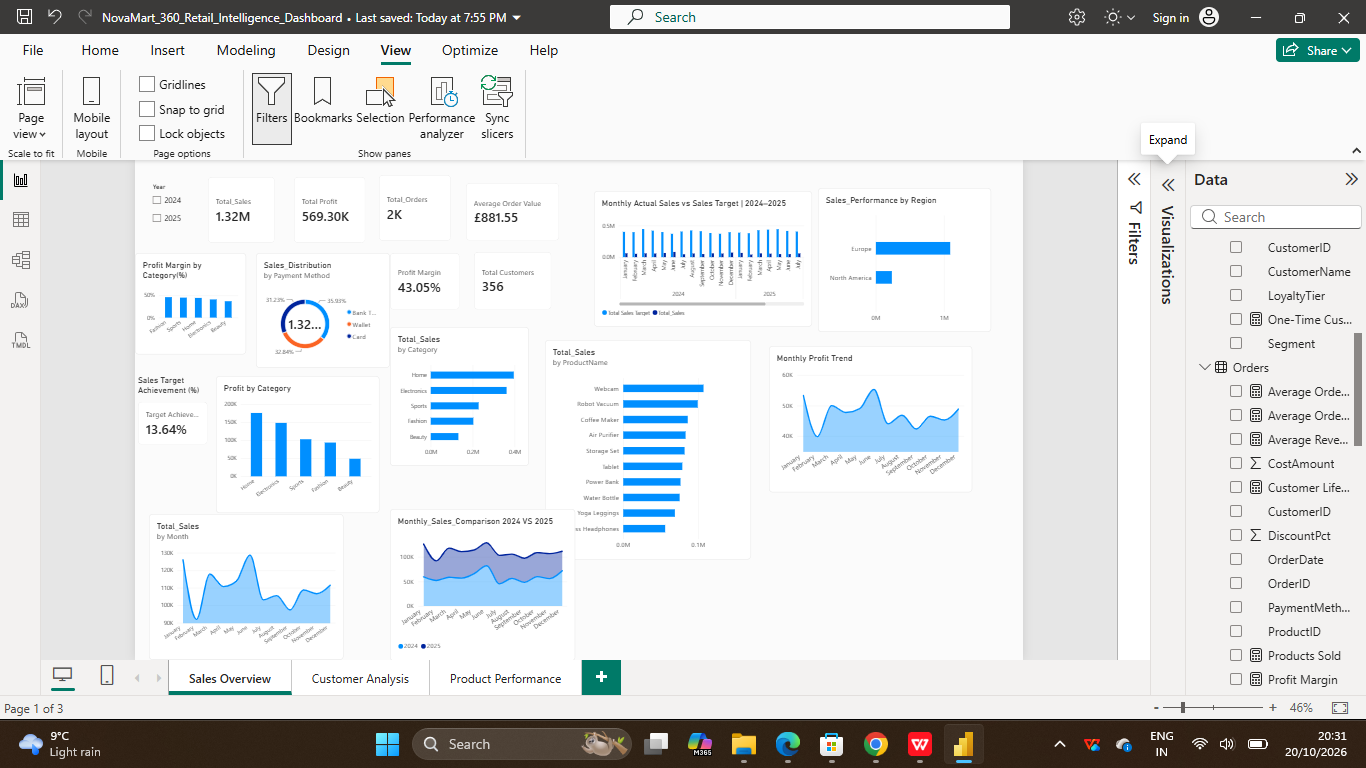

Layout of this report page (visuals, bound fields, positions):
{"tool":"powerbi","page":{"name":"Sales Overview","canvas":[1920,1080],"ordinal":0},"visuals":[{"type":"cardVisual","fields":{"Data":["Orders.Total_Sales"]},"box":[157.1,37.1,144.3,142.9],"z":0},{"type":"cardVisual","fields":{"Data":["Orders.Total_Orders"]},"box":[527.1,31.4,155.7,142.9],"z":1000},{"type":"cardVisual","fields":{"Data":["Orders.Total Profit"]},"box":[344.3,37.1,154.3,142.9],"z":2000},{"type":"cardVisual","fields":{"Data":["Orders.Profit Margin"]},"box":[550,200,150,122.9],"z":3000},{"type":"cardVisual","fields":{"Data":["Orders.Average Order Value"]},"box":[714.3,50,201.4,124.3],"z":4000},{"type":"cardVisual","fields":{"Data":["Orders.Total Customers"]},"box":[731.4,198.6,167.7,124.6],"z":5000},{"type":"clusteredBarChart","fields":{"Category":["Products.Category"],"Y":["Orders.Total_Sales"]},"box":[550,360,300,300],"z":6000},{"type":"clusteredBarChart","fields":{"Category":["Products.ProductName"],"Y":["Orders.Total_Sales"]},"box":[885.7,388.6,445,473.8],"z":7000},{"type":"areaChart","fields":{"Category":["Calendar.Date.Variation.Date Hierarchy.Month"],"Y":["Orders.Total_Sales"]},"box":[30,764.3,420,315],"z":8000},{"type":"stackedAreaChart","title":"Monthly_Sales_Comparison 2024 VS 2025","fields":{"Category":["Calendar.Date.Variation.Date Hierarchy.Month"],"Series":["Calendar.Year"],"Y":["Orders.Total_Sales"]},"box":[550,752.9,400,327.7],"z":9000},{"type":"clusteredBarChart","title":"Sales_Performance by Region","fields":{"Category":["Stores.Region"],"Y":["Orders.Total_Sales"]},"box":[1474.3,61.4,374.3,311.4],"z":10000},{"type":"donutChart","title":"Sales_Distribution","fields":{"Category":["Orders.PaymentMethod"],"Y":["Orders.Total_Sales"]},"box":[261.4,200,289.2,248.5],"z":11000},{"type":"slicer","fields":{"Values":["Calendar.Year"]},"box":[30,50,102.9,115.7],"z":12000},{"type":"columnChart","title":"Profit Margin by Category(%)","fields":{"Category":["Products.Category"],"Y":["Orders.Profit Margin"]},"box":[0,200,240,218.6],"z":13000},{"type":"columnChart","title":"Profit by Category","fields":{"Category":["Products.Category"],"Y":["Orders.Total Profit"]},"box":[174.3,467.1,352.9,295.7],"z":14000},{"type":"areaChart","title":"Monthly Profit Trend","fields":{"Category":["Calendar.Date.Variation.Date Hierarchy.Month"],"Y":["Orders.Total Profit"]},"box":[1370,401.4,438.6,315.7],"z":15000},{"type":"clusteredColumnChart","title":"Monthly Actual Sales vs Sales Target | 2024–2025","fields":{"Category":["Calendar.Date.Variation.Date Hierarchy.Year","Calendar.Date.Variation.Date Hierarchy.Month"],"Y":["TargetsData.Total Sales Target","Orders.Total_Sales"]},"box":[991.4,67.1,471.4,292.9],"z":16000},{"type":"cardVisual","title":"Sales Target Achievement (%)","fields":{"Data":["TargetsData.Target Achievement %"]},"box":[7.1,464.3,150,150],"z":17000}]}

Visuals, with their boxes on the page's 1920x1080 design canvas (x1, y1, x2, y2). These are canvas units, not pixel positions in the 1366x768 screenshot, which may show the page scaled, cropped or inside an application window:
cardVisual - Orders.Total_Sales: box=[157, 37, 301, 180]
cardVisual - Orders.Total_Orders: box=[527, 31, 683, 174]
cardVisual - Orders.Total Profit: box=[344, 37, 499, 180]
cardVisual - Orders.Profit Margin: box=[550, 200, 700, 323]
cardVisual - Orders.Average Order Value: box=[714, 50, 916, 174]
cardVisual - Orders.Total Customers: box=[731, 199, 899, 323]
clusteredBarChart - Products.Category x Orders.Total_Sales: box=[550, 360, 850, 660]
clusteredBarChart - Products.ProductName x Orders.Total_Sales: box=[886, 389, 1331, 862]
areaChart - Calendar.Date.Variation.Date Hierarchy.Month x Orders.Total_Sales: box=[30, 764, 450, 1079]
"Monthly_Sales_Comparison 2024 VS 2025" stackedAreaChart: box=[550, 753, 950, 1081]
"Sales_Performance by Region" clusteredBarChart: box=[1474, 61, 1849, 373]
"Sales_Distribution" donutChart: box=[261, 200, 551, 448]
slicer - Calendar.Year: box=[30, 50, 133, 166]
"Profit Margin by Category(%)" columnChart: box=[0, 200, 240, 419]
"Profit by Category" columnChart: box=[174, 467, 527, 763]
"Monthly Profit Trend" areaChart: box=[1370, 401, 1809, 717]
"Monthly Actual Sales vs Sales Target | 2024–2025" clusteredColumnChart: box=[991, 67, 1463, 360]
"Sales Target Achievement (%)" cardVisual: box=[7, 464, 157, 614]
